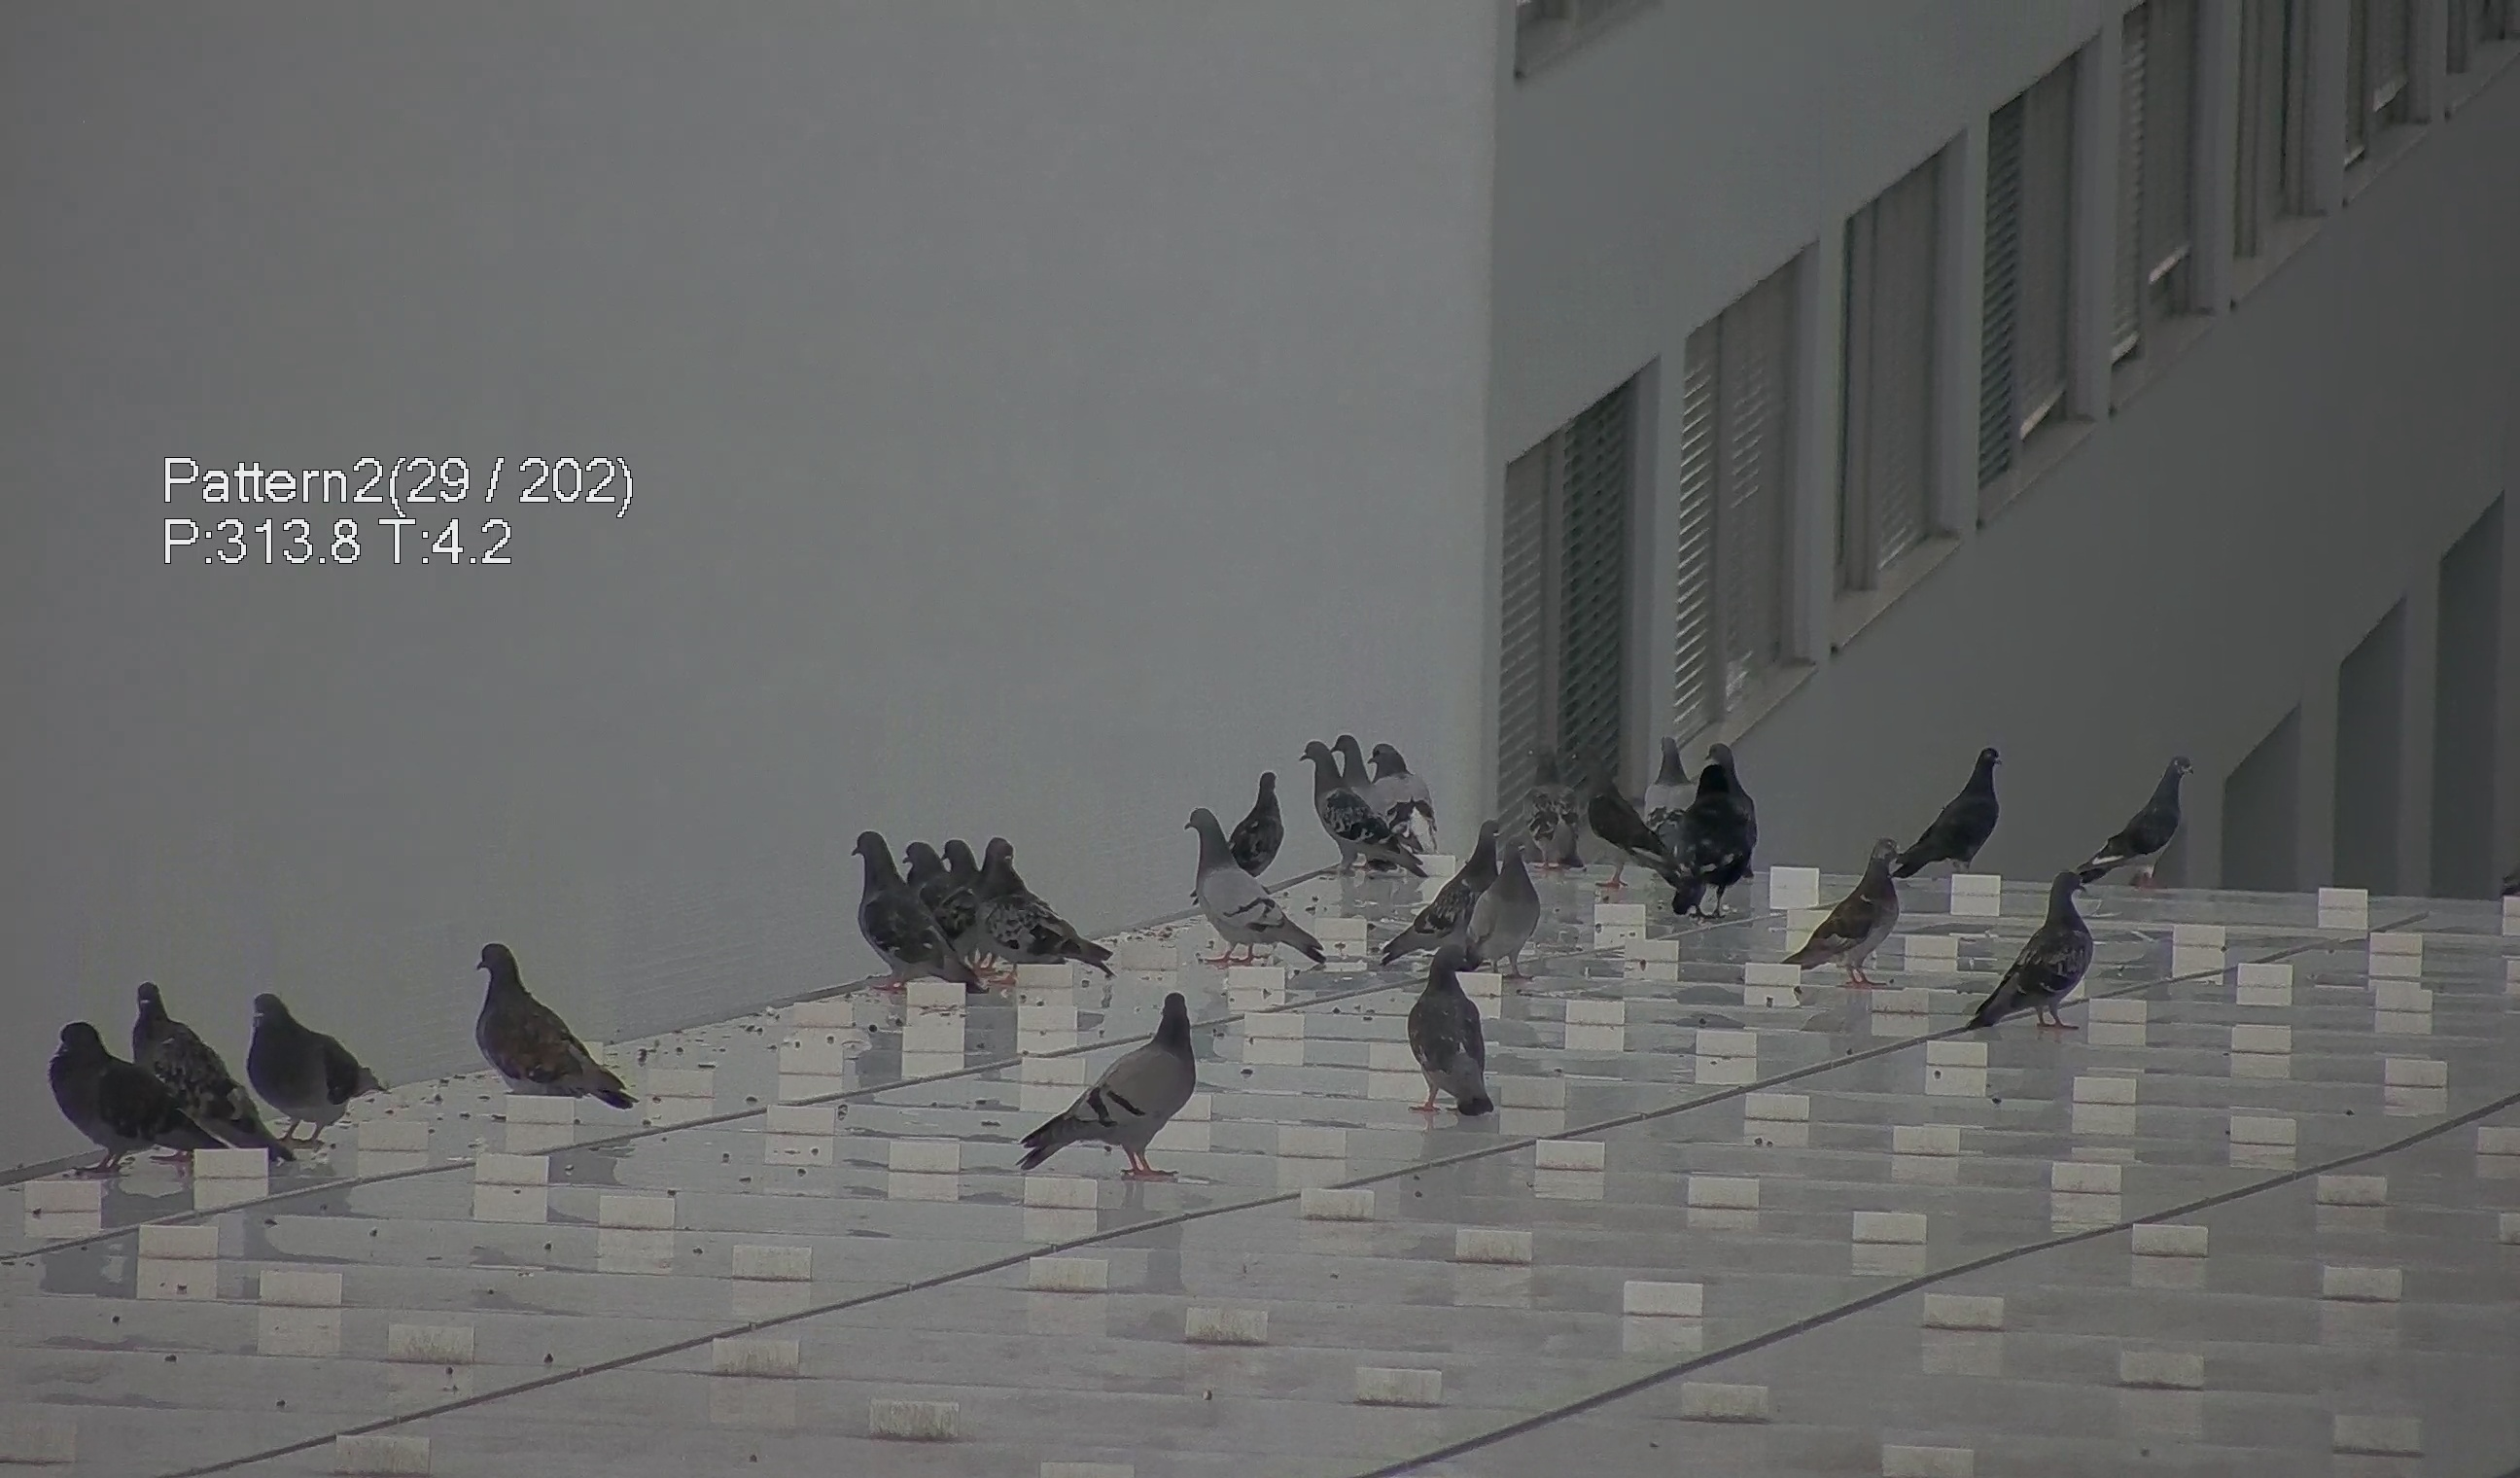Pigeon: (1020, 994, 1210, 1189), (455, 936, 623, 1121), (98, 982, 259, 1163), (971, 832, 1148, 985), (1970, 860, 2110, 1045), (1175, 806, 1324, 978), (227, 991, 389, 1147), (841, 829, 980, 1003), (1792, 830, 1940, 989), (28, 1021, 181, 1168), (1658, 744, 1776, 920), (1402, 947, 1514, 1123), (2073, 755, 2202, 899), (1899, 737, 2017, 885), (1305, 735, 1416, 890), (1454, 838, 1556, 975), (1567, 743, 1658, 896), (1516, 737, 1586, 874), (892, 832, 988, 931), (1424, 811, 1504, 931), (1366, 741, 1446, 857), (1236, 769, 1303, 874), (1641, 728, 1690, 823), (1328, 728, 1384, 808)
